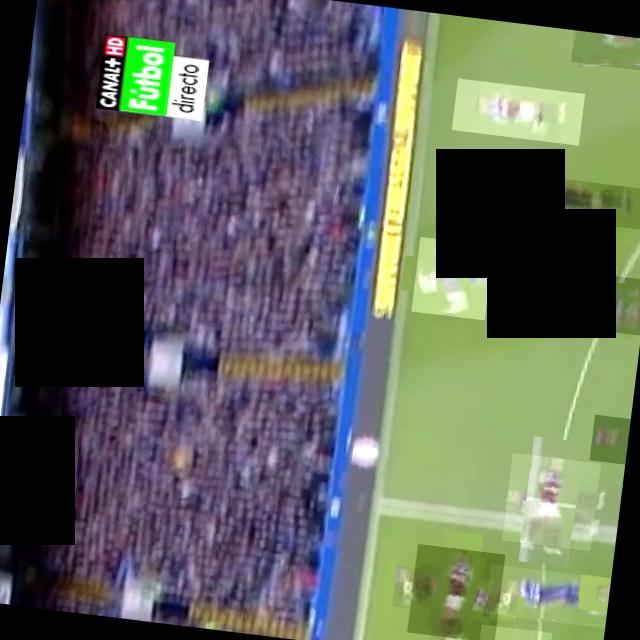referee: (504, 170, 640, 228)
soccer-player: (407, 542, 505, 640), (502, 452, 600, 550), (452, 77, 584, 144), (520, 264, 640, 334), (485, 562, 611, 626), (411, 236, 494, 319), (570, 29, 640, 73), (590, 413, 630, 463), (476, 623, 551, 640)
